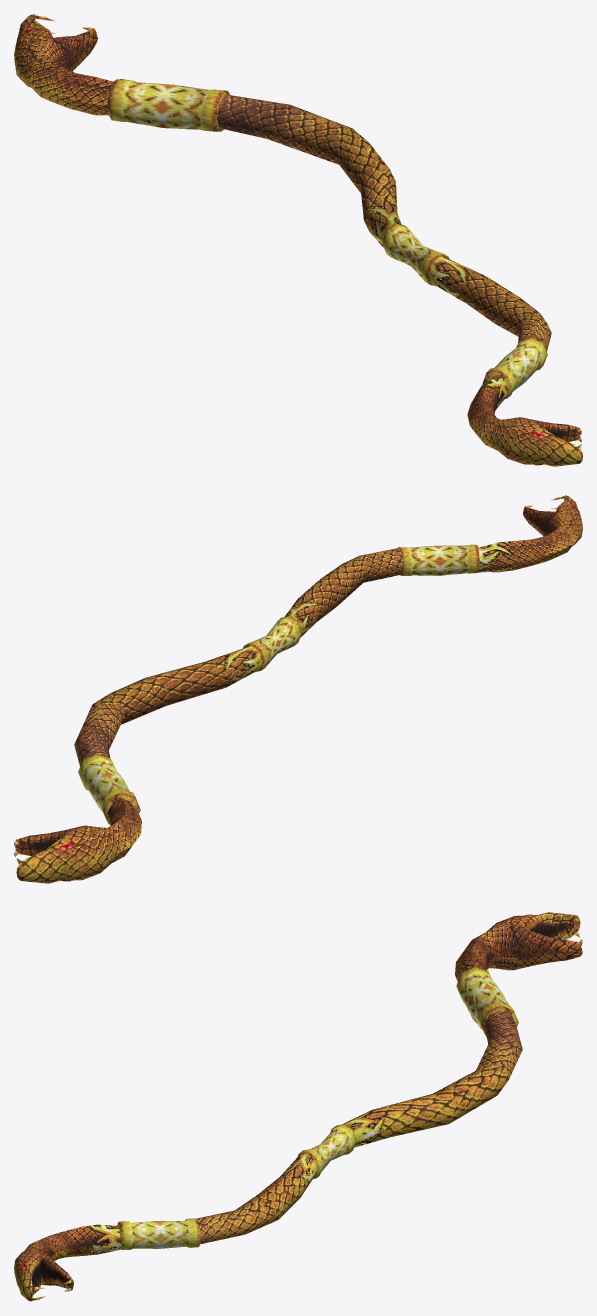
File: bow_l_kinkousen1_kinkousen1.glb
3 views of the same model, one above another, from view 1: azimuth 30°, elevation 25°; view 2: azimuth 150°, elevation 25°; view 3: azimuth 330°, elevation 25° (orthographic). The views are drawn at different scales.
Size of the model in its own units: 0.3229 by 0.0794 by 1.54.
1 material, 1 textured.
